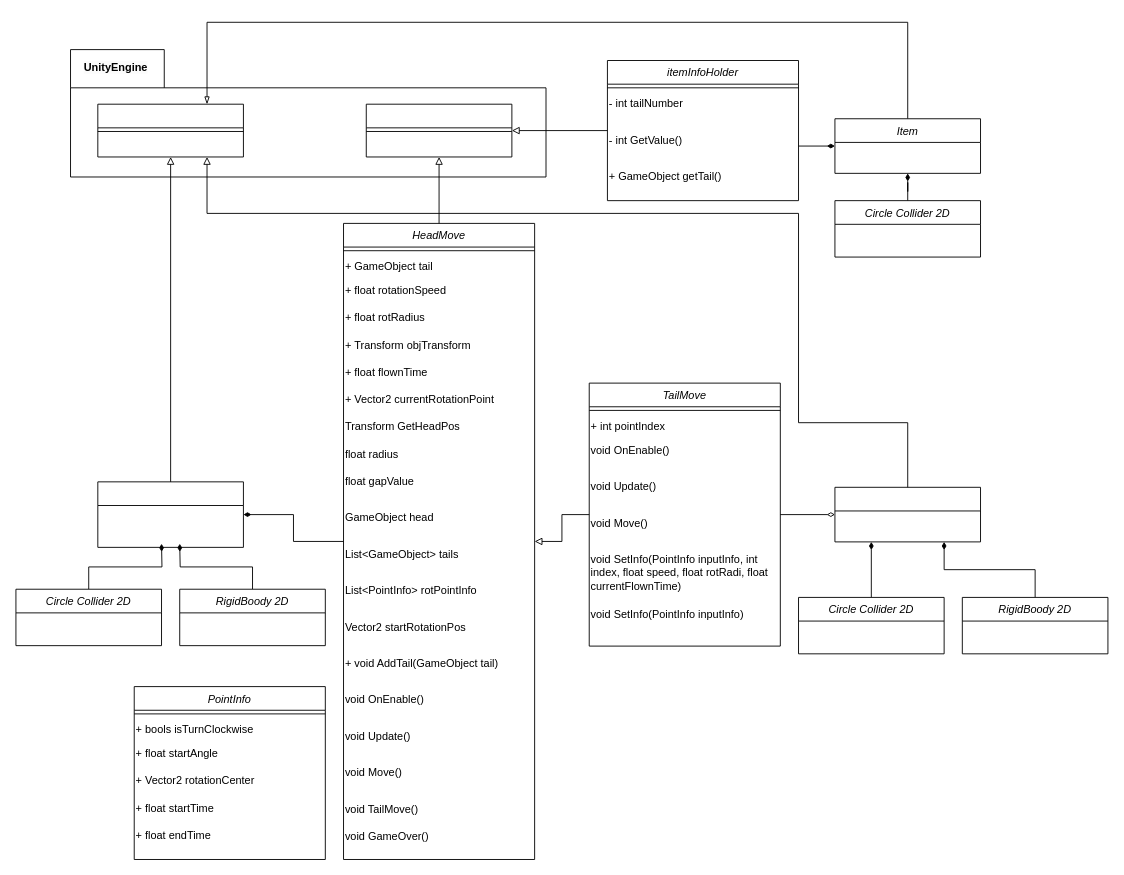
Some shapes in this 1124 by 875 pixel diagram are drawn without their labels. Each missing label, with the centre of its shape:
"GameObject" goes at point (170, 130).
"Head" goes at point (170, 514).
"MonoBeheiva" goes at point (438, 130).
"Tail" goes at point (907, 514).
